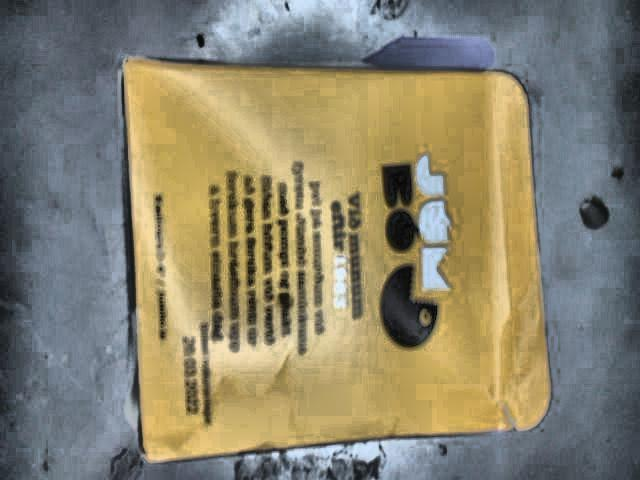Paper: (95, 37, 579, 480)
